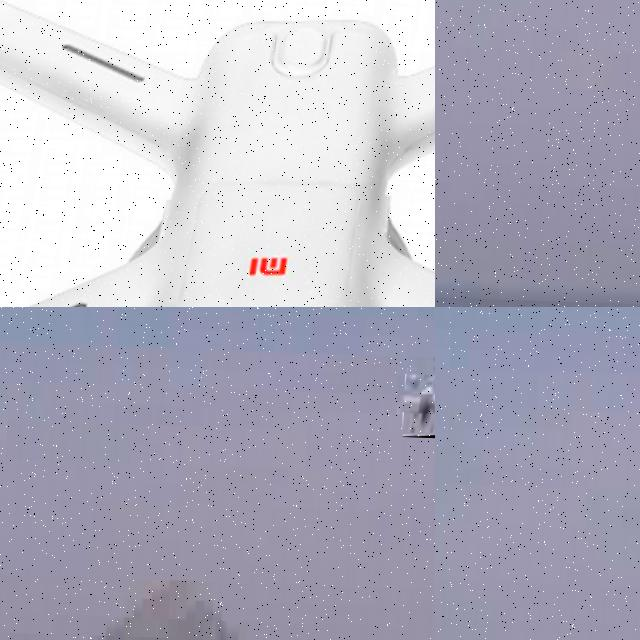drone: (0, 0, 435, 307), (402, 367, 435, 438)
